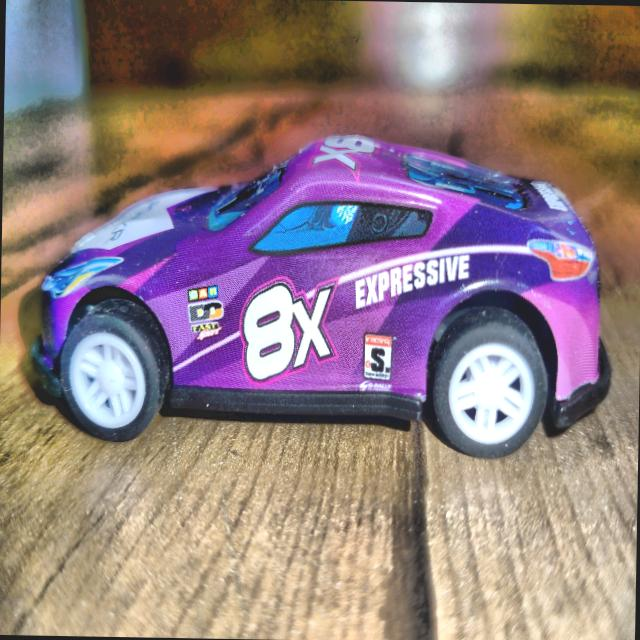Car: (21, 117, 618, 498)
